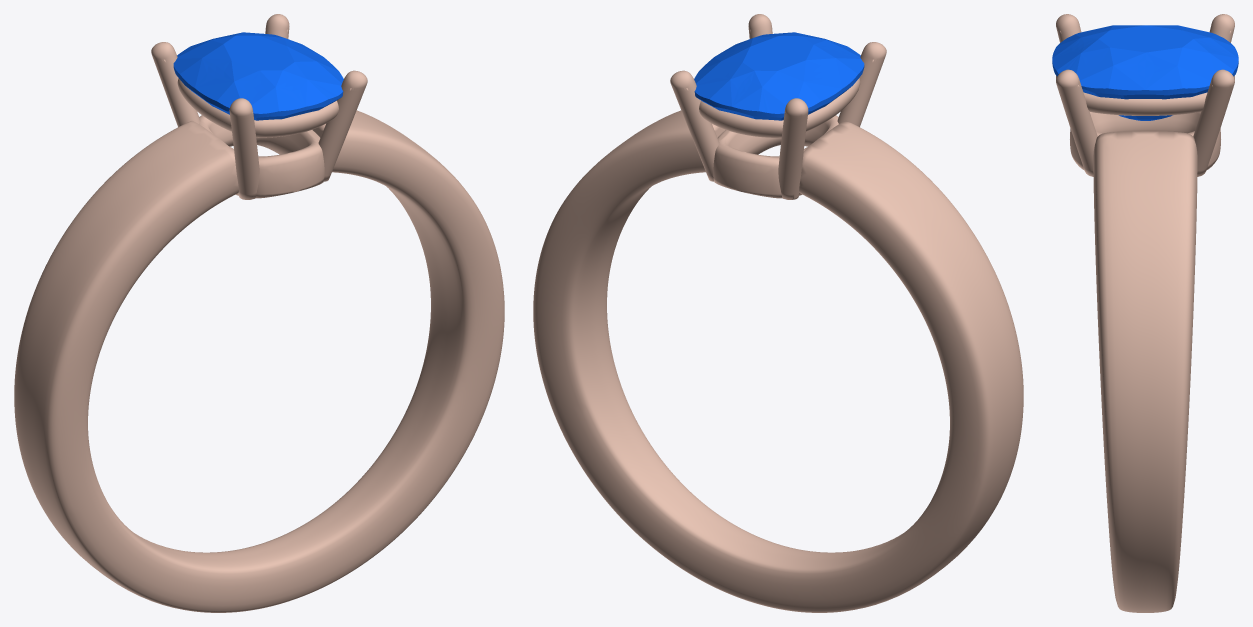
File: bluesapphire-cushion-rosegold-4prong-straighttaperedband-nosidestones.glb
The picture shows the model from 3 angles, left to right: view 1: azimuth 30°, elevation 25°; view 2: azimuth 150°, elevation 25°; view 3: azimuth 270°, elevation 25°; orthographic projection.
Visible parts, largest first — view 1: metal, stone; view 2: metal, stone; view 3: metal, stone.
Boxes of the visible parts, x1=… form: metal: x1=14, y1=14, x2=504, y2=612; stone: x1=173, y1=32, x2=343, y2=120; metal: x1=533, y1=14, x2=1023, y2=612; stone: x1=694, y1=32, x2=864, y2=120; metal: x1=1056, y1=14, x2=1234, y2=612; stone: x1=1052, y1=25, x2=1238, y2=120.
Bounding box in the file's own units: 20.51 × 23.24 × 7.15.
